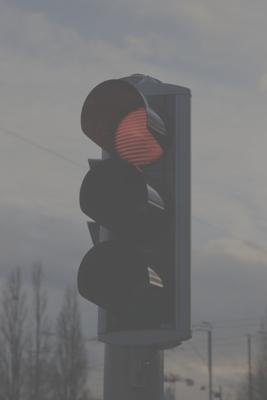International Road Signal Light: (80, 77, 193, 350)
